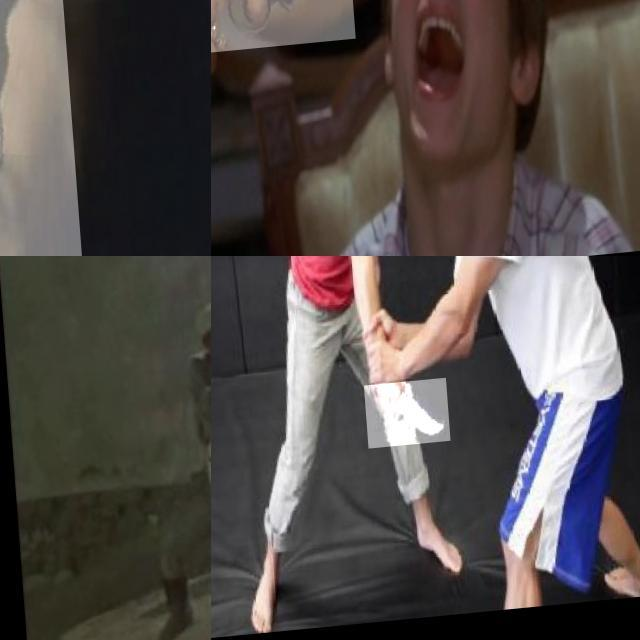-: (358, 385, 444, 454)
gun-knife-thesis - v11 Yolov5 augmented: (0, 0, 139, 256), (211, 0, 349, 96)
